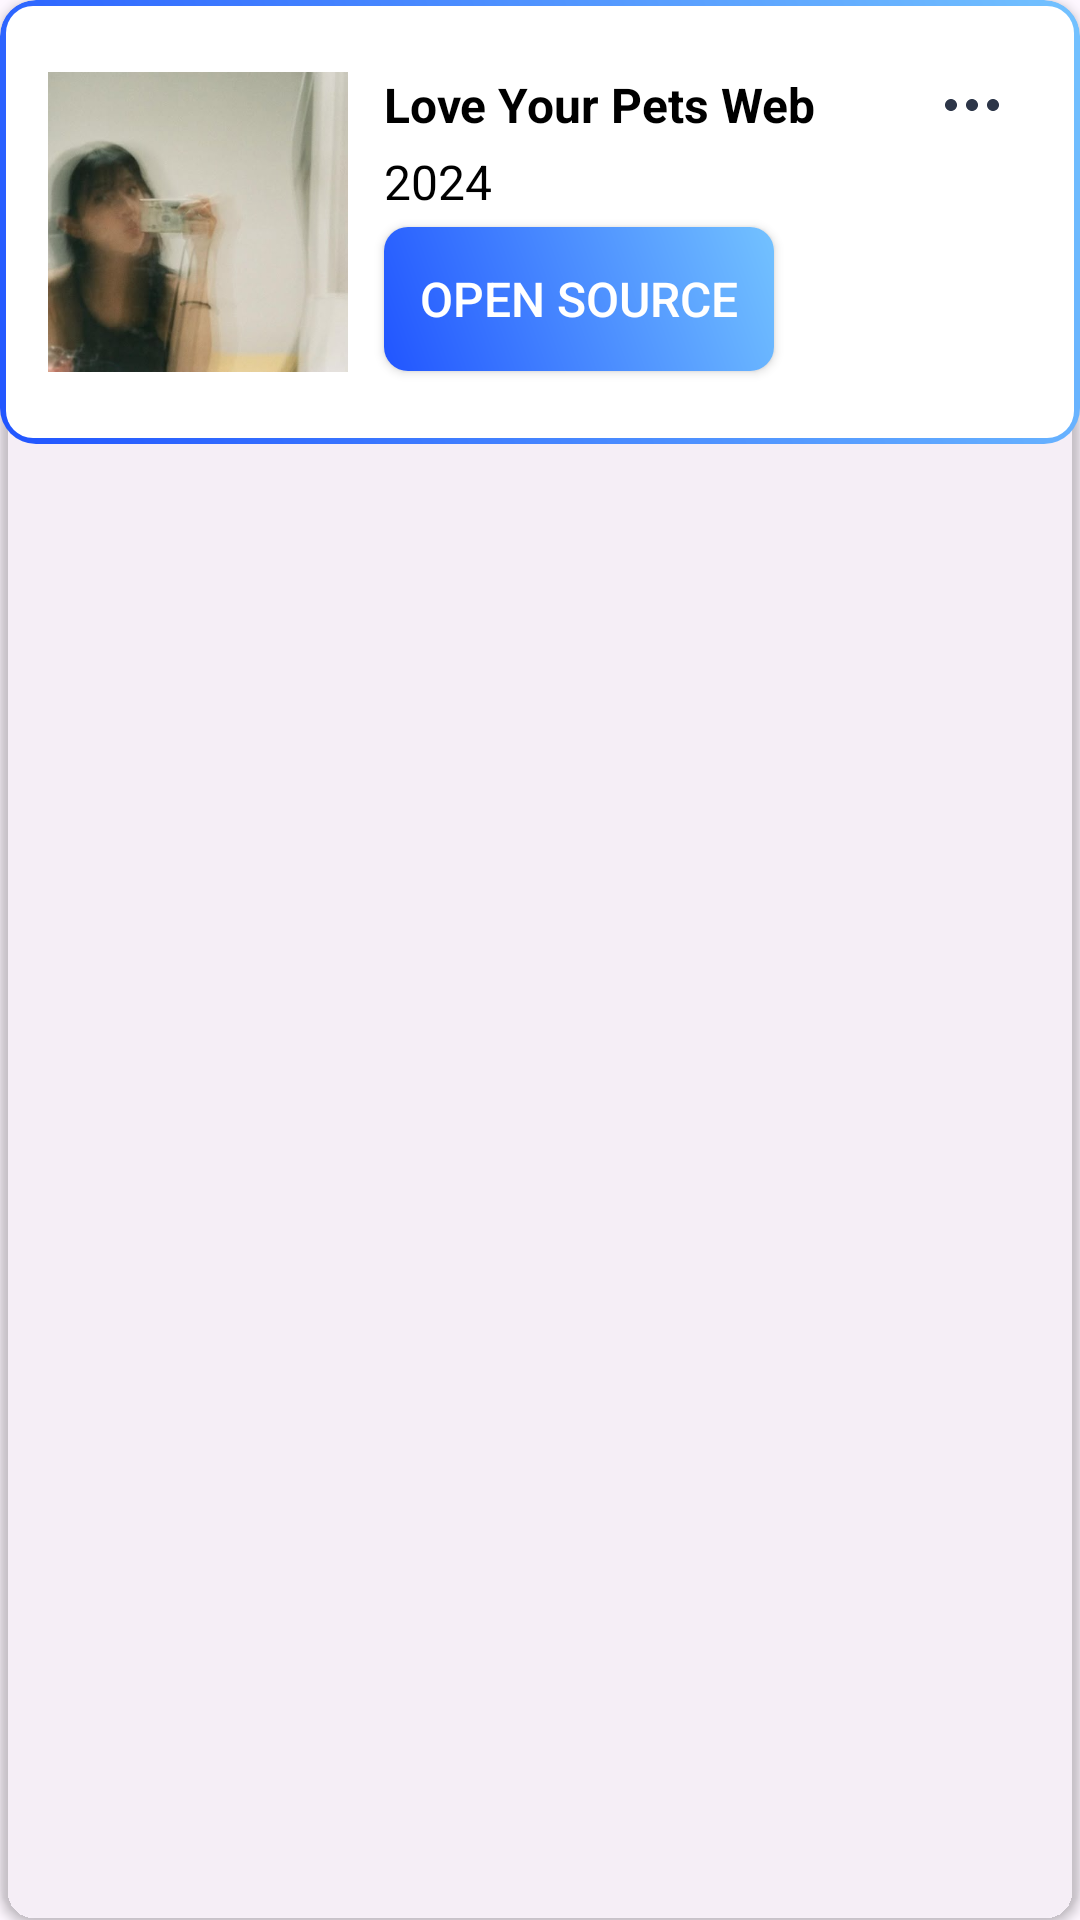

Named icons in this screenshot (1080 x 1920) and their centers, point (x, y):
card more: point (972, 105)
